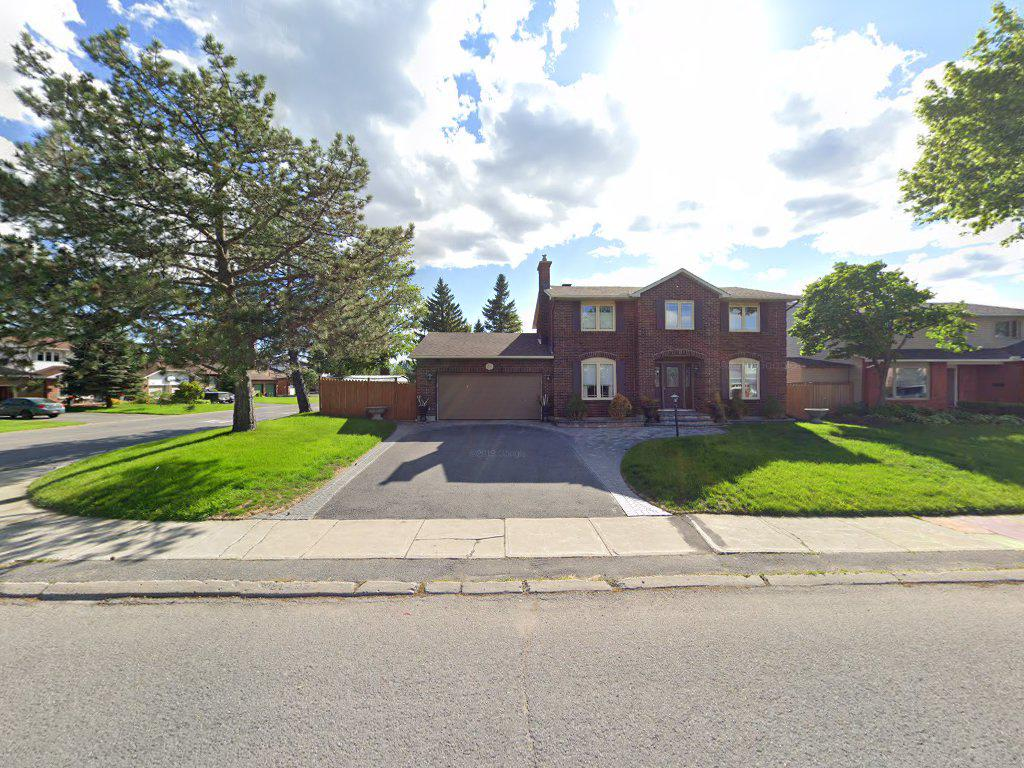trunk: (229, 353, 256, 438)
